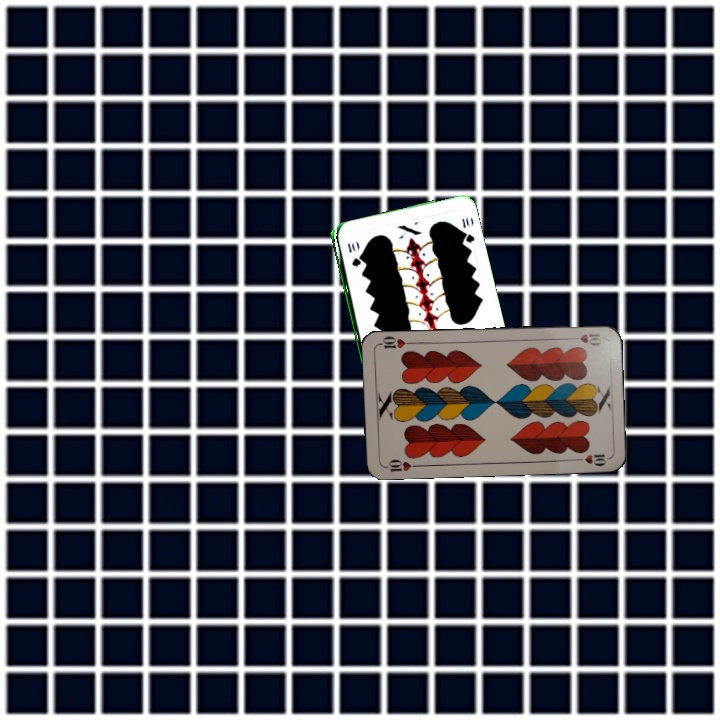G10: (343, 239, 361, 269)
H10: (381, 455, 421, 474), (565, 330, 604, 347)
